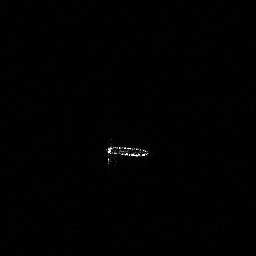ship: (102, 137, 152, 170)
